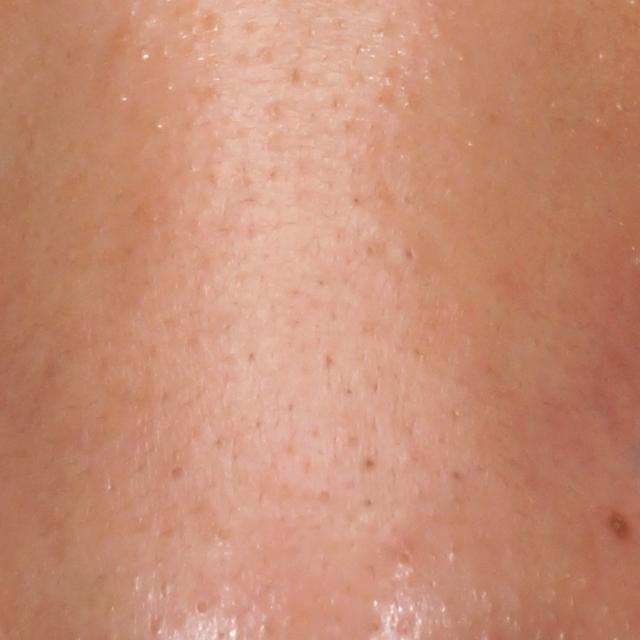comedo: (191, 597, 214, 621), (391, 548, 413, 570), (357, 455, 378, 473)
nevus: (598, 499, 632, 541)
